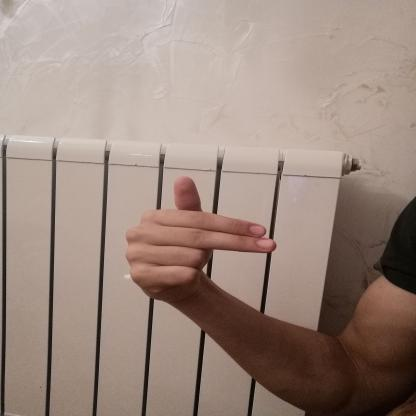GHAYN: (109, 170, 286, 307)
